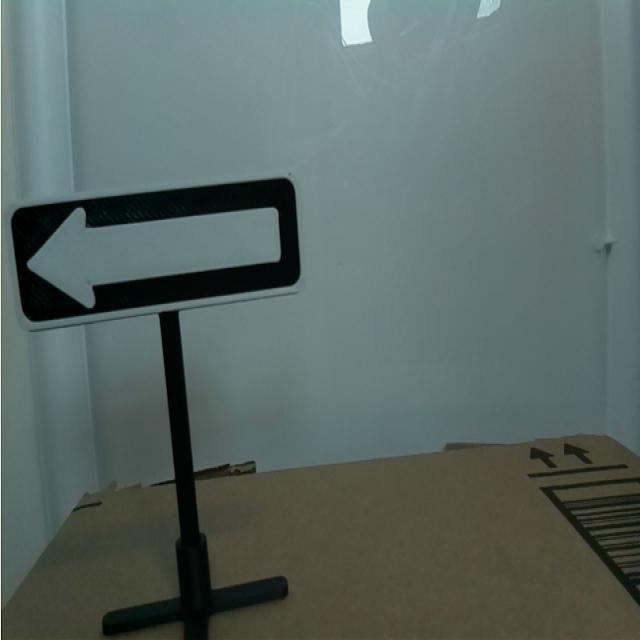sign_oneway_left: (9, 169, 305, 341)
